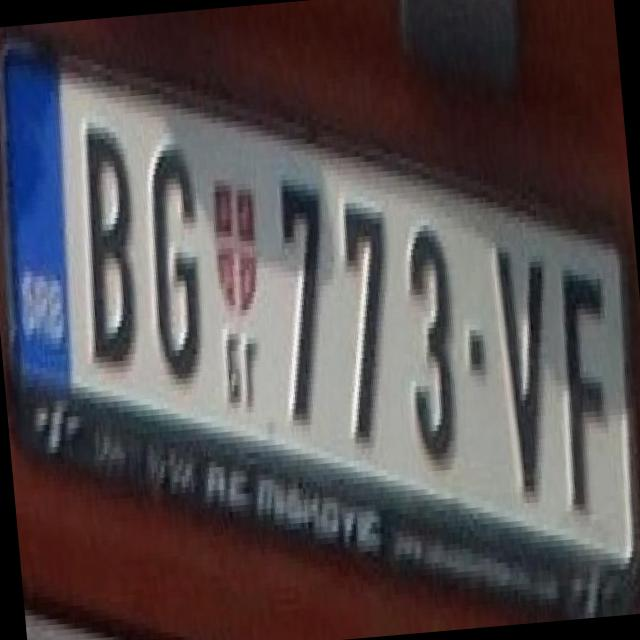3: (388, 211, 474, 467)
7: (319, 182, 411, 450), (260, 159, 348, 433)
B: (64, 107, 154, 380)
F: (539, 249, 630, 511)
G: (132, 125, 216, 386)
V: (478, 225, 572, 506)
